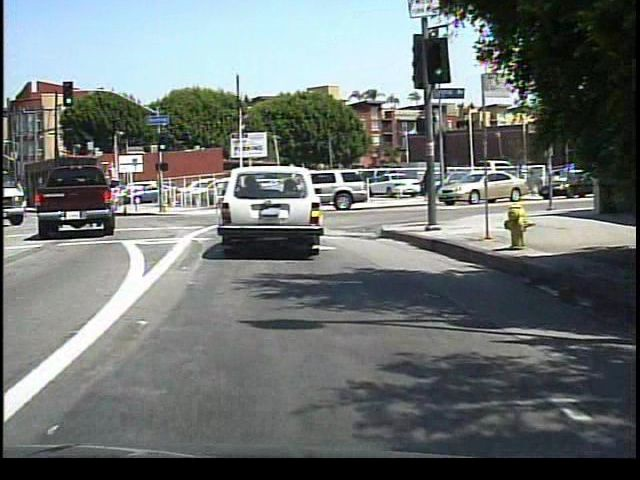person: (417, 162, 436, 204)
